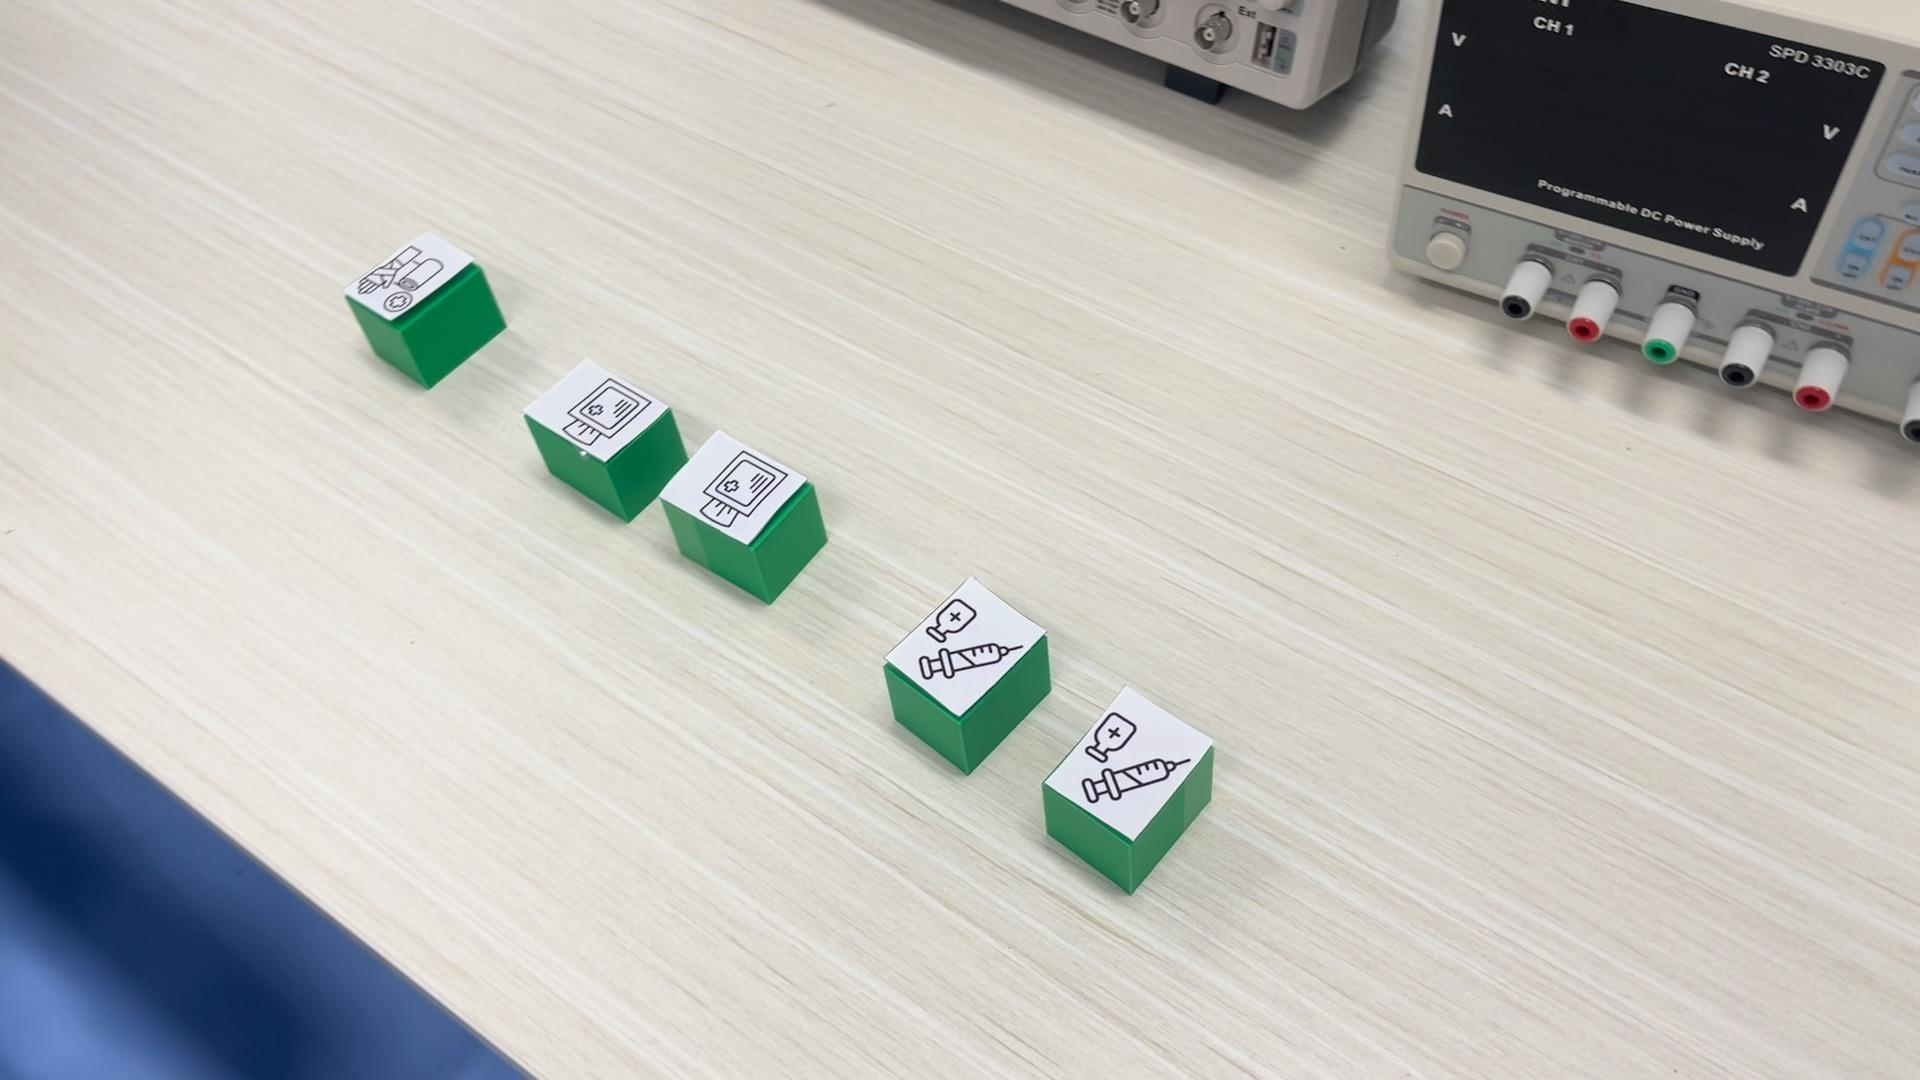Bandages: (342, 229, 506, 390)
Gauze: (659, 427, 832, 607), (521, 357, 686, 525)
antiseptic cream: (1038, 684, 1217, 893), (881, 575, 1054, 774)
